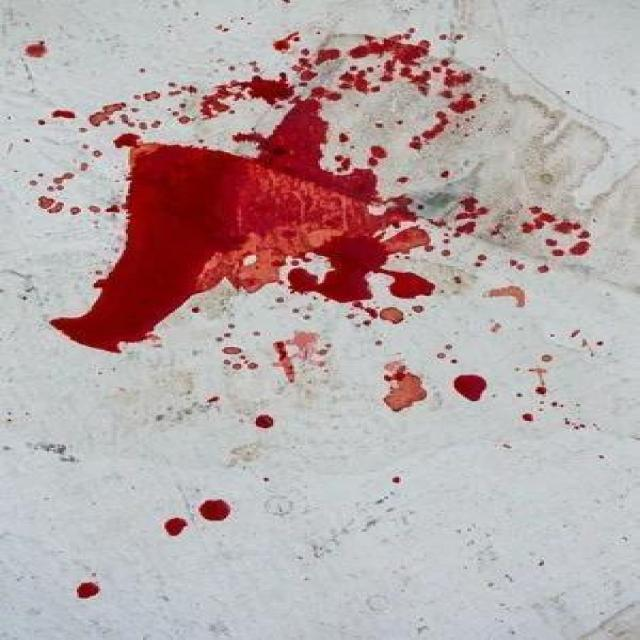knife: (49, 142, 255, 353), (250, 162, 324, 267), (327, 168, 388, 274), (256, 95, 329, 166), (383, 361, 428, 413), (238, 255, 286, 296), (317, 270, 374, 304), (242, 72, 296, 107), (384, 28, 431, 68), (199, 79, 242, 121), (453, 195, 489, 238), (389, 271, 437, 301), (380, 193, 418, 229), (388, 225, 430, 256), (338, 65, 380, 94), (521, 204, 556, 236), (452, 373, 488, 403), (87, 101, 126, 128), (399, 66, 432, 97), (272, 340, 295, 383), (287, 267, 321, 295), (545, 238, 592, 257), (348, 36, 384, 60), (199, 498, 232, 522), (422, 111, 449, 140), (448, 92, 477, 115), (442, 67, 472, 89), (292, 58, 319, 82), (47, 171, 75, 193), (272, 31, 300, 52), (37, 194, 65, 215), (167, 103, 191, 126), (163, 516, 189, 537), (308, 86, 342, 102), (112, 131, 140, 150), (314, 48, 341, 67), (351, 301, 378, 320), (167, 81, 197, 98), (366, 144, 388, 167), (75, 580, 100, 600), (553, 219, 580, 236), (24, 39, 48, 58), (231, 131, 263, 145), (379, 307, 403, 325), (380, 59, 397, 83), (254, 413, 276, 431), (132, 90, 162, 103), (333, 154, 351, 173), (128, 120, 162, 130), (563, 418, 586, 431), (432, 58, 450, 74), (51, 109, 75, 120), (408, 135, 423, 152), (521, 412, 536, 425), (428, 218, 446, 228), (576, 230, 594, 239), (104, 203, 120, 213), (337, 131, 349, 144), (535, 385, 547, 397), (439, 88, 452, 99), (69, 205, 81, 216), (88, 205, 101, 215)
